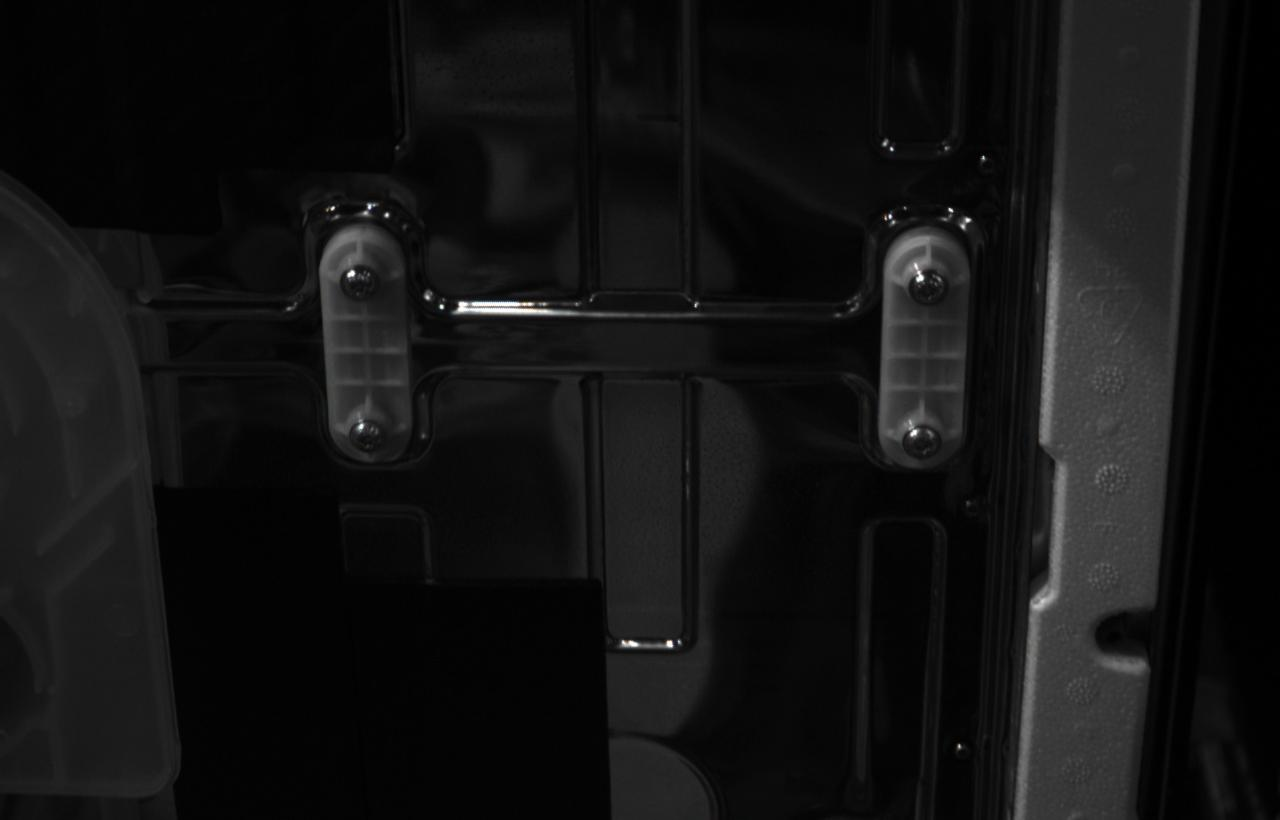vida-ok: (908, 269, 950, 308), (340, 265, 379, 304), (902, 425, 942, 461), (348, 419, 388, 453)
